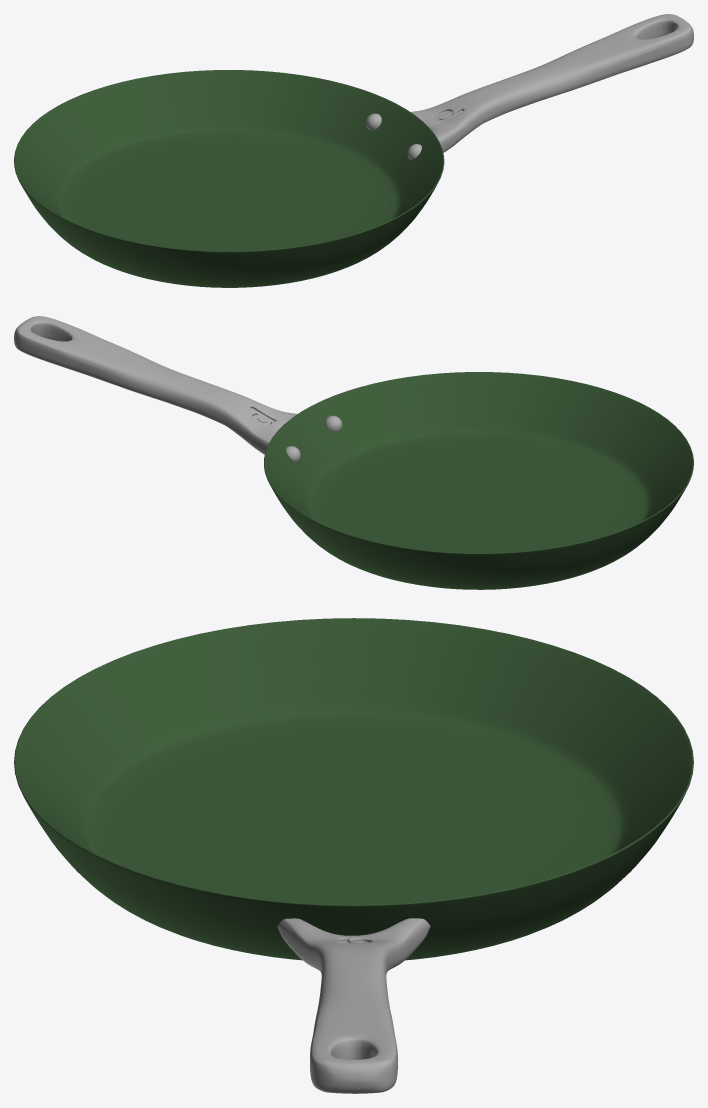
Rendered from 10inch_fry.glb.
The picture shows the model from 3 angles, top to bottom: view 1: azimuth 30°, elevation 25°; view 2: azimuth 150°, elevation 25°; view 3: azimuth 270°, elevation 25°; orthographic projection. The views are drawn at different scales.
Parts seen in each view (by area): view 1: pan_body_geo, handle_geo; view 2: pan_body_geo, handle_geo; view 3: pan_body_geo, handle_geo.
Boxes of the visible parts, box(x1,y1,x2,y2) form: pan_body_geo: box(14, 70, 444, 287); handle_geo: box(411, 14, 693, 152); pan_body_geo: box(264, 372, 693, 589); handle_geo: box(14, 316, 297, 454); pan_body_geo: box(14, 618, 693, 960); handle_geo: box(277, 918, 430, 1093).
Size of the model in its own units: 2.27 by 0.3116 by 1.31.
